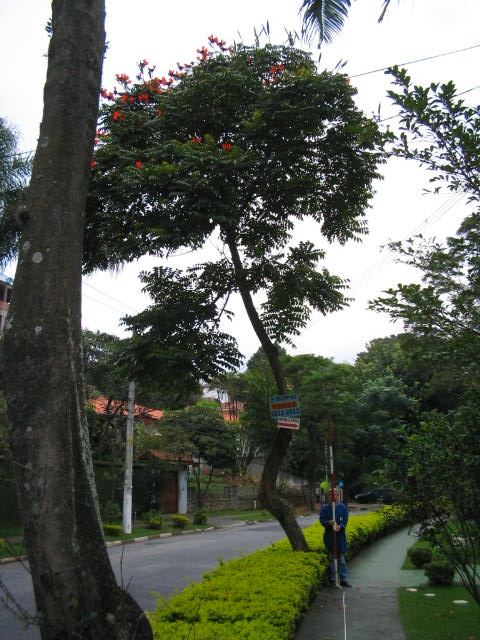crown: (90, 34, 395, 394)
stem: (235, 332, 327, 587)
stick: (315, 418, 350, 587)
tree: (86, 34, 398, 587), (145, 401, 240, 527)
